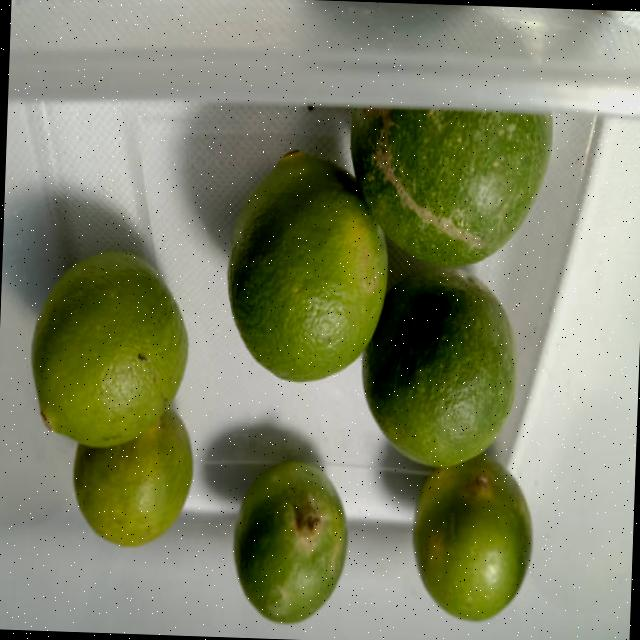Unripe: (224, 148, 392, 389), (25, 244, 194, 451), (357, 265, 520, 472), (409, 456, 536, 624), (228, 456, 352, 628)
